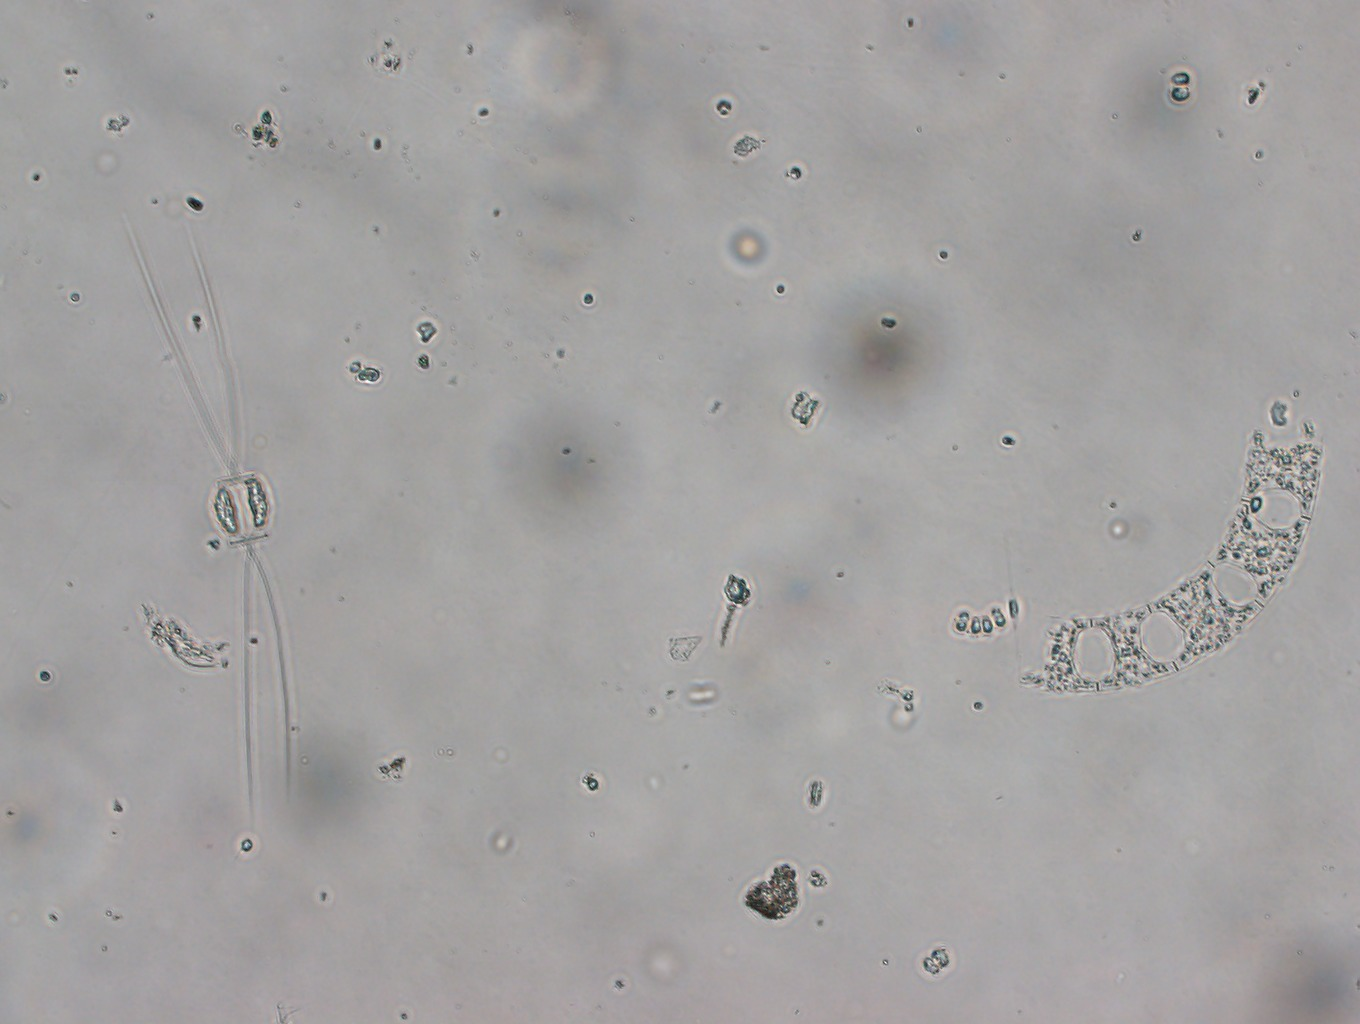chaetoceros: (108, 207, 309, 833)
eucampia: (1006, 392, 1330, 698)
